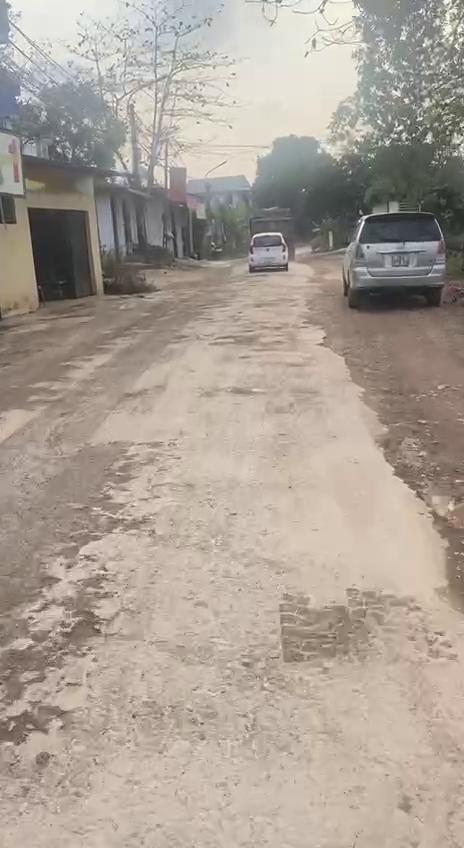pothole: (0, 606, 96, 743), (52, 495, 124, 562)
